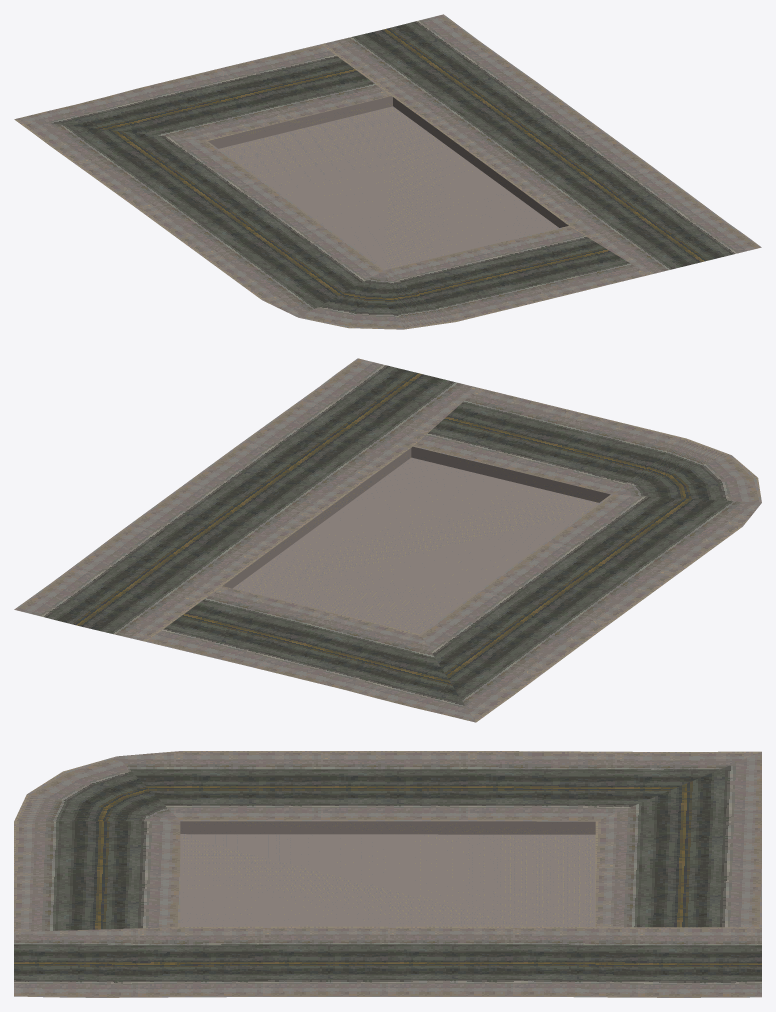
File: lodcunte_roads58.obj
3 renders of one model, top to bottom at view 1: azimuth 30°, elevation 25°; view 2: azimuth 150°, elevation 25°; view 3: azimuth 270°, elevation 25°, orthographic. The views are drawn at different scales.
Parts seen in each view (by area): view 1: LODcunte_roads58; view 2: LODcunte_roads58; view 3: LODcunte_roads58.
Boxes of the visible parts, bbox=[...] form: LODcunte_roads58: bbox=[14, 14, 761, 329]; LODcunte_roads58: bbox=[14, 358, 761, 722]; LODcunte_roads58: bbox=[14, 751, 761, 997].
Bounding box in the file's own units: 70 × 2.08 × 90.01.
Materials: 1 (1 with a texture image).
